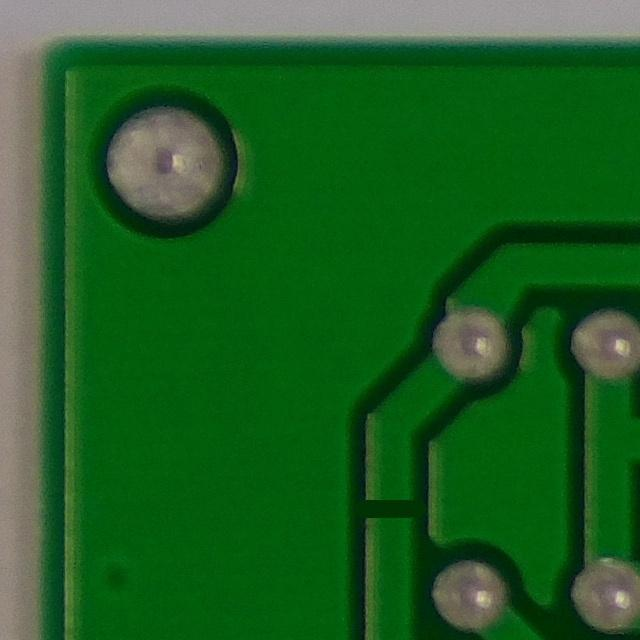open_circuit: (355, 484, 423, 538)
